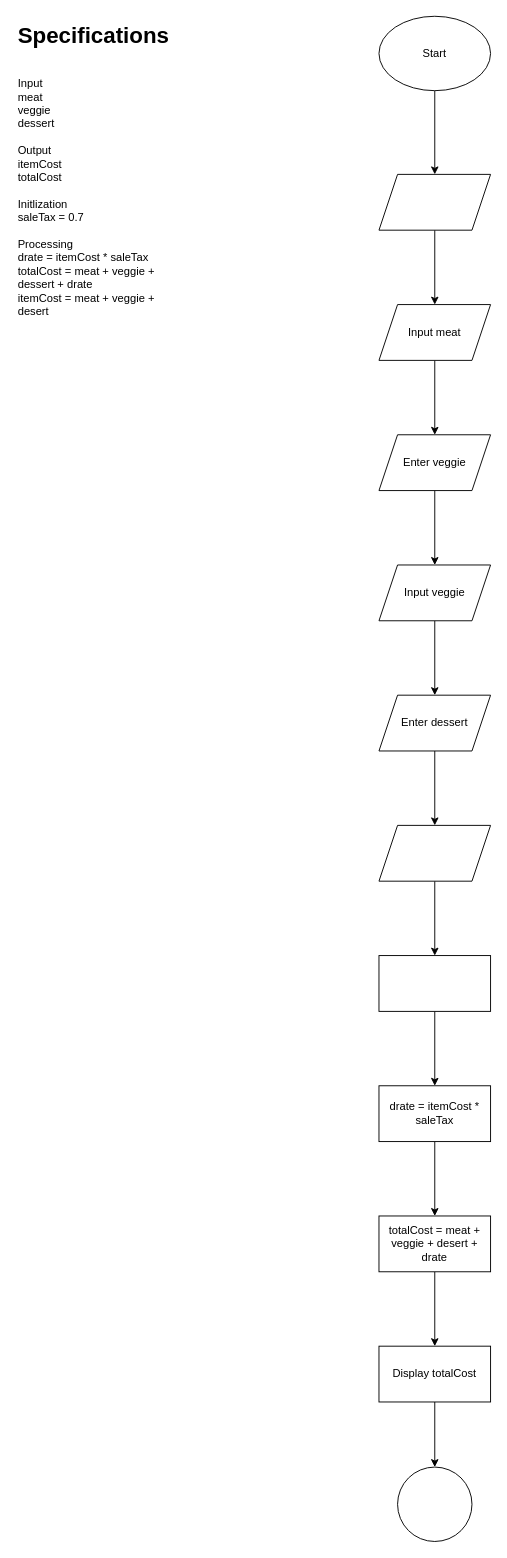
Image size: 507x1558. Some labels were removed from this diagram. The shapes that lost their labels are listed below. From the top down, each one's centre as x and y in pixels, then its label:
(434,201): Enter meat
(434,852): Input dessert
(434,983): itemCost = meat + veggie + dessert
(434,1503): End
